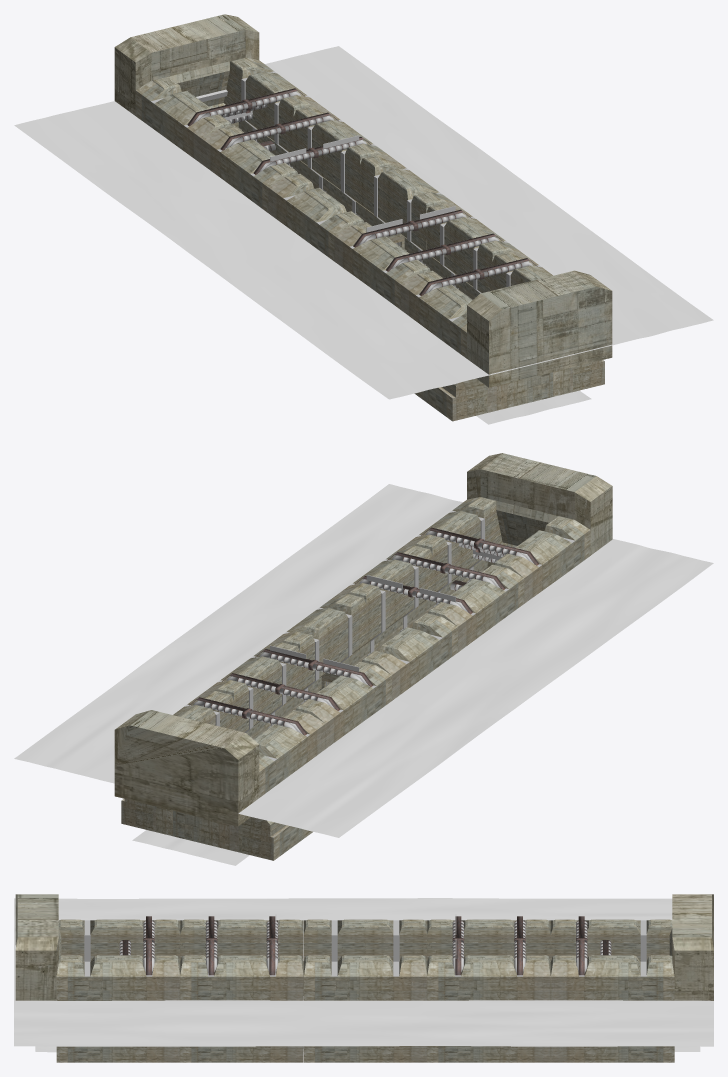
The model's file is starftat map.fbx.
3 views of the same model, one above another, from view 1: azimuth 30°, elevation 25°; view 2: azimuth 150°, elevation 25°; view 3: azimuth 270°, elevation 25° (orthographic). The views are drawn at different scales.
Parts seen in each view (by area): view 1: Outside water, More Walls, Walls, Overhead Pipes, Inside water; view 2: Outside water, More Walls, Walls, Overhead Pipes, Inside water; view 3: More Walls, Outside water, Walls, Overhead Pipes, More Walls.001, Inside water.
Boxes of the visible parts, left/top/right/bottom form: Outside water: left=14, top=46, right=713, bottom=399; More Walls: left=114, top=14, right=612, bottom=421; Walls: left=268, top=154, right=457, bottom=275; Overhead Pipes: left=187, top=88, right=537, bottom=295; Inside water: left=476, top=390, right=591, bottom=424; Outside water: left=14, top=484, right=713, bottom=837; More Walls: left=114, top=453, right=612, bottom=860; Walls: left=269, top=594, right=457, bottom=714; Overhead Pipes: left=189, top=527, right=538, bottom=735; Inside water: left=132, top=830, right=249, bottom=865; More Walls: left=15, top=894, right=713, bottom=1062; Outside water: left=14, top=898, right=713, bottom=1046; Walls: left=303, top=919, right=427, bottom=1062; Overhead Pipes: left=143, top=914, right=587, bottom=975; More Walls.001: left=119, top=940, right=611, bottom=955; Inside water: left=35, top=1046, right=700, bottom=1052.
Size of the model in its own units: 184 by 73.47 by 368.
